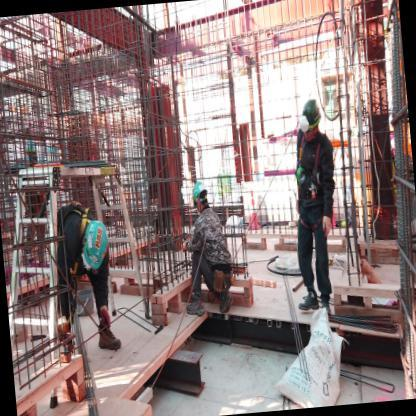safety-shoe: (93, 315, 125, 354), (295, 290, 320, 315), (185, 297, 209, 322)
